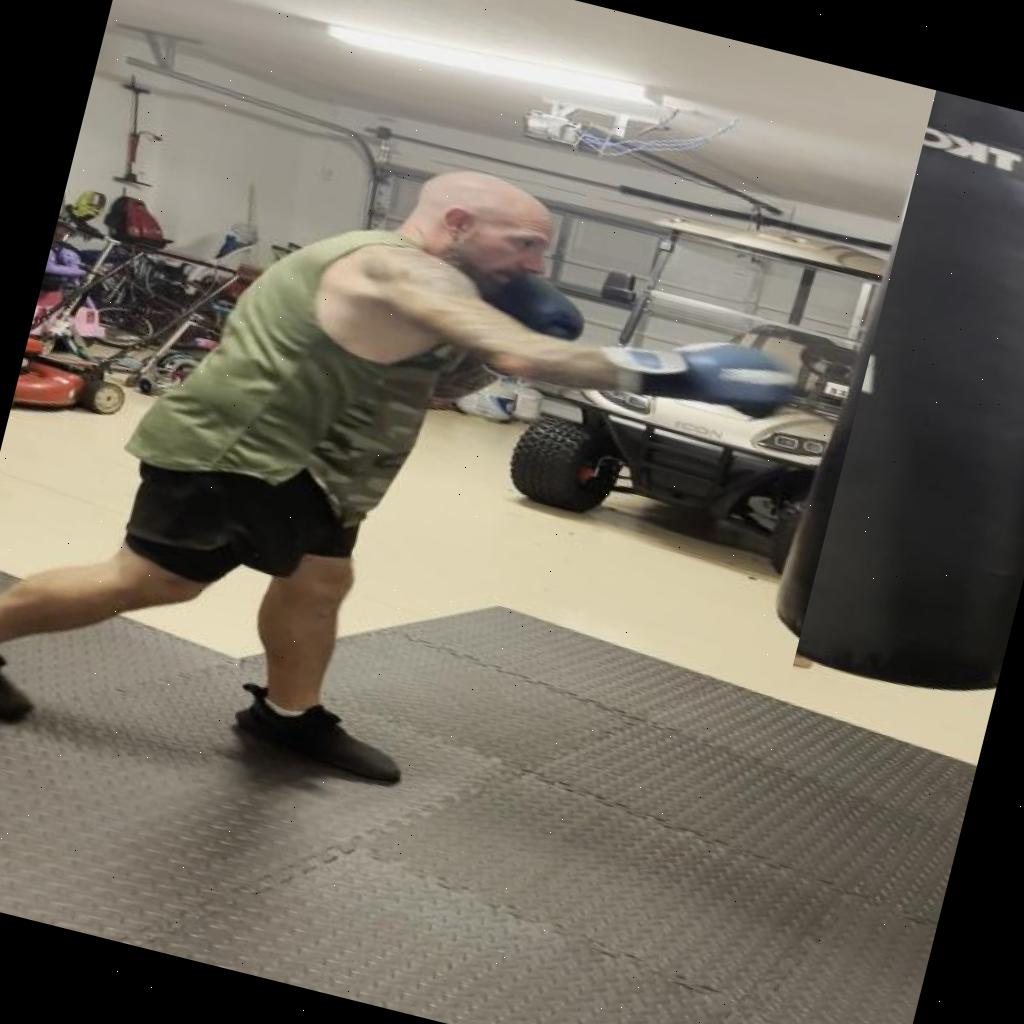bag: (787, 90, 1024, 734)
cross: (225, 93, 866, 489)
